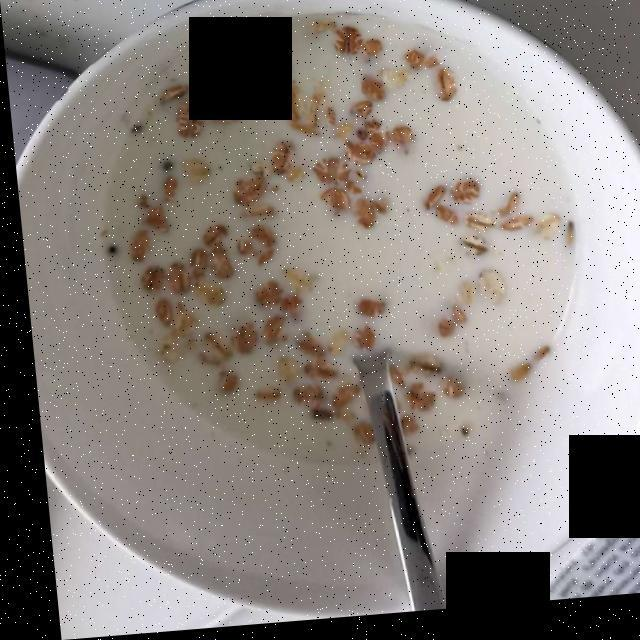milk: (120, 34, 551, 452)
